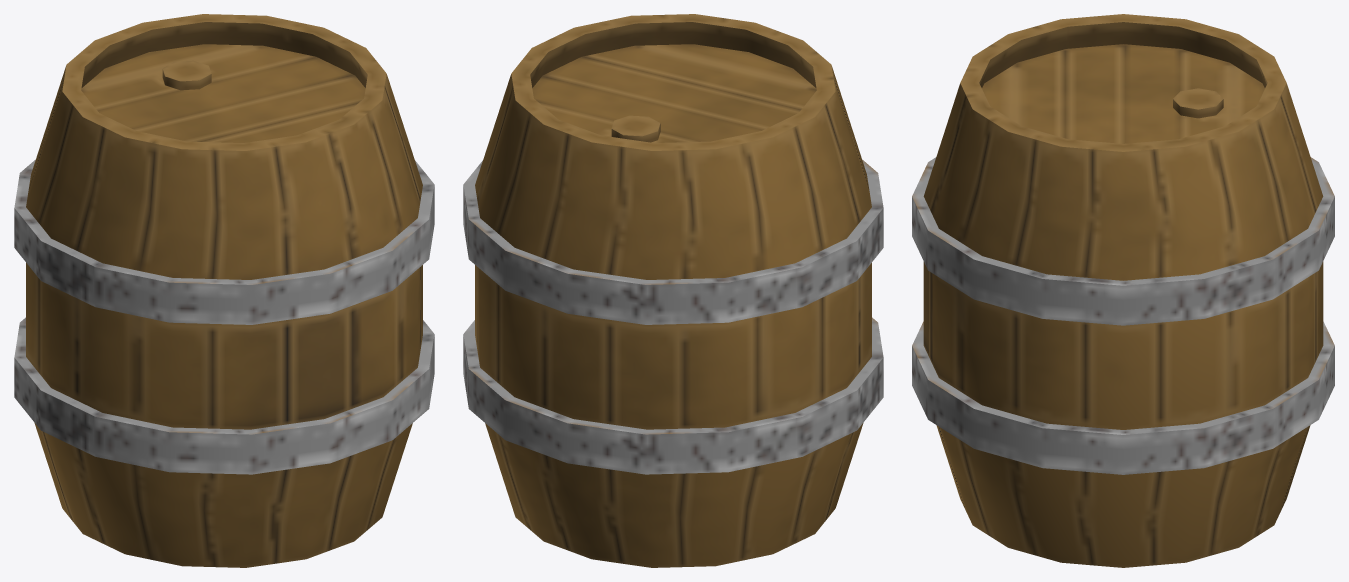
File: BARREL_1.fbx
3 renders of one model, left to right at view 1: azimuth 30°, elevation 25°; view 2: azimuth 150°, elevation 25°; view 3: azimuth 270°, elevation 25°, orthographic.
Visible parts, largest first — view 1: BARREL_1_low; view 2: BARREL_1_low; view 3: BARREL_1_low.
Part boxes in pixels (x1,y1,x2,y2): BARREL_1_low: (14, 14, 434, 567); BARREL_1_low: (463, 14, 883, 567); BARREL_1_low: (912, 14, 1334, 567).
Bounding box in the file's own units: 59.77 × 64.87 × 59.77.
